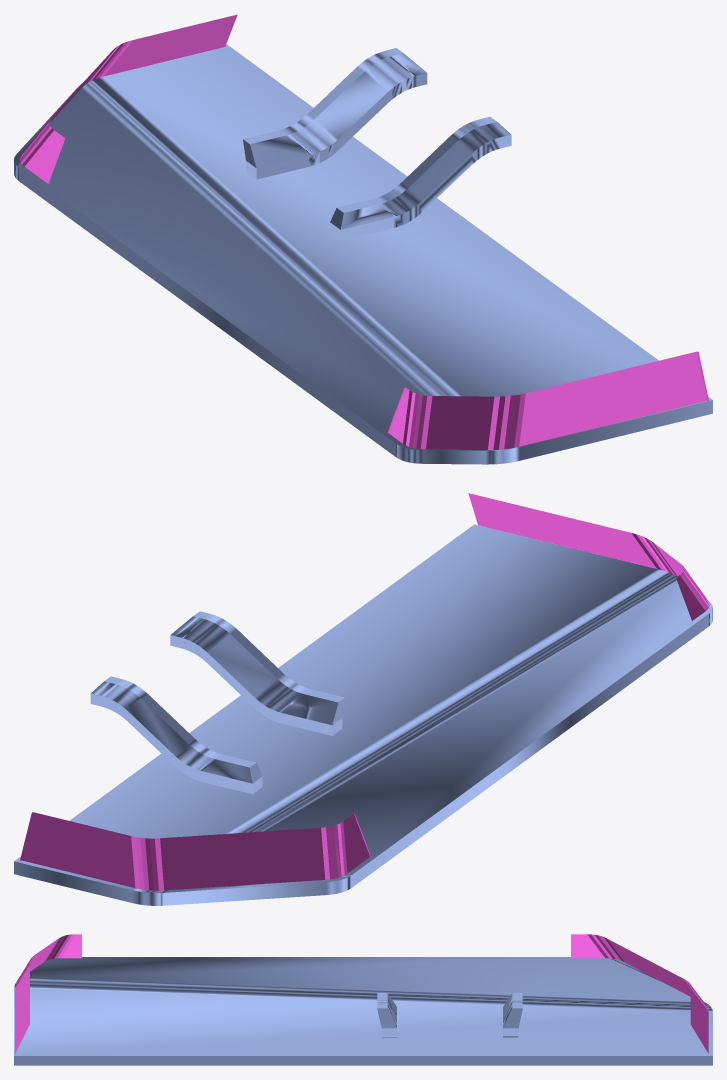
Rendered from plate_trim_addon_transit_a.glb.
The picture shows the model from 3 angles, top to bottom: view 1: azimuth 30°, elevation 25°; view 2: azimuth 150°, elevation 25°; view 3: azimuth 270°, elevation 25°; orthographic projection. The views are drawn at different scales.
Bounding box in the file's own units: 10.57 × 2.93 × 26.43.
